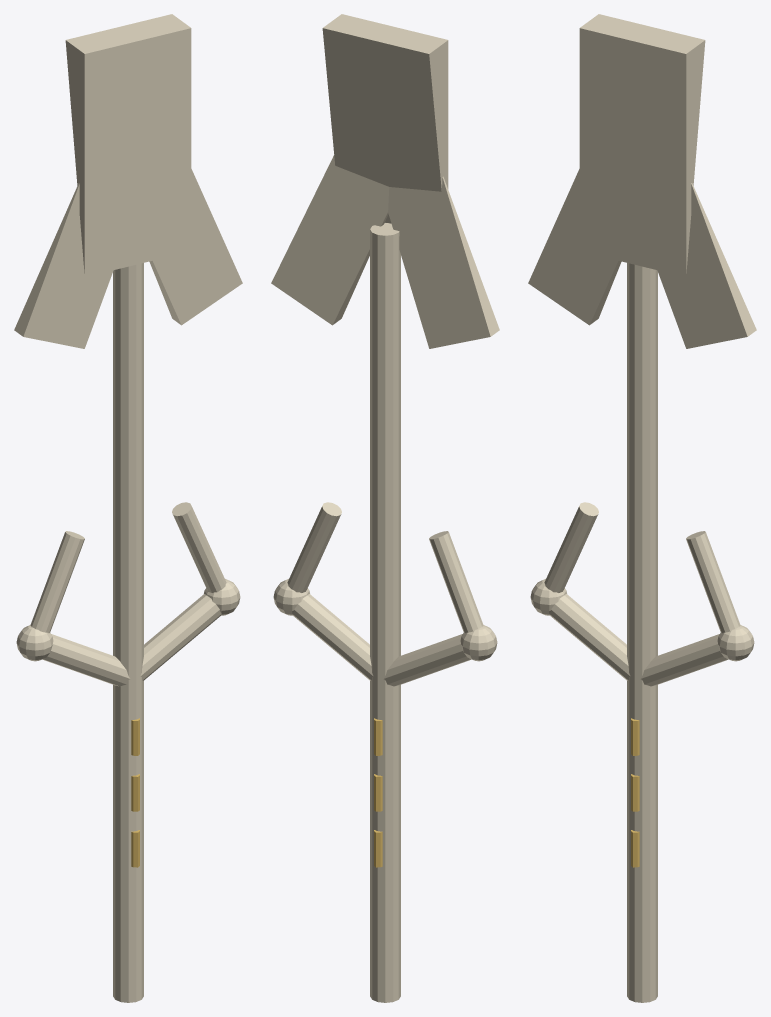
The model's file is BoneSpear.obj.
3 renders of one model, left to right at view 1: azimuth 30°, elevation 25°; view 2: azimuth 150°, elevation 25°; view 3: azimuth 330°, elevation 25°, orthographic.
Parts seen in each view (by area): view 1: BoneSpear; view 2: BoneSpear; view 3: BoneSpear.
Part boxes in pixels (x1,y1,x2,y2): BoneSpear: (14,14,242,1002); BoneSpear: (271,14,499,1002); BoneSpear: (528,14,756,1002).
Size of the model in its own units: 1.65 by 6.9 by 0.25.
